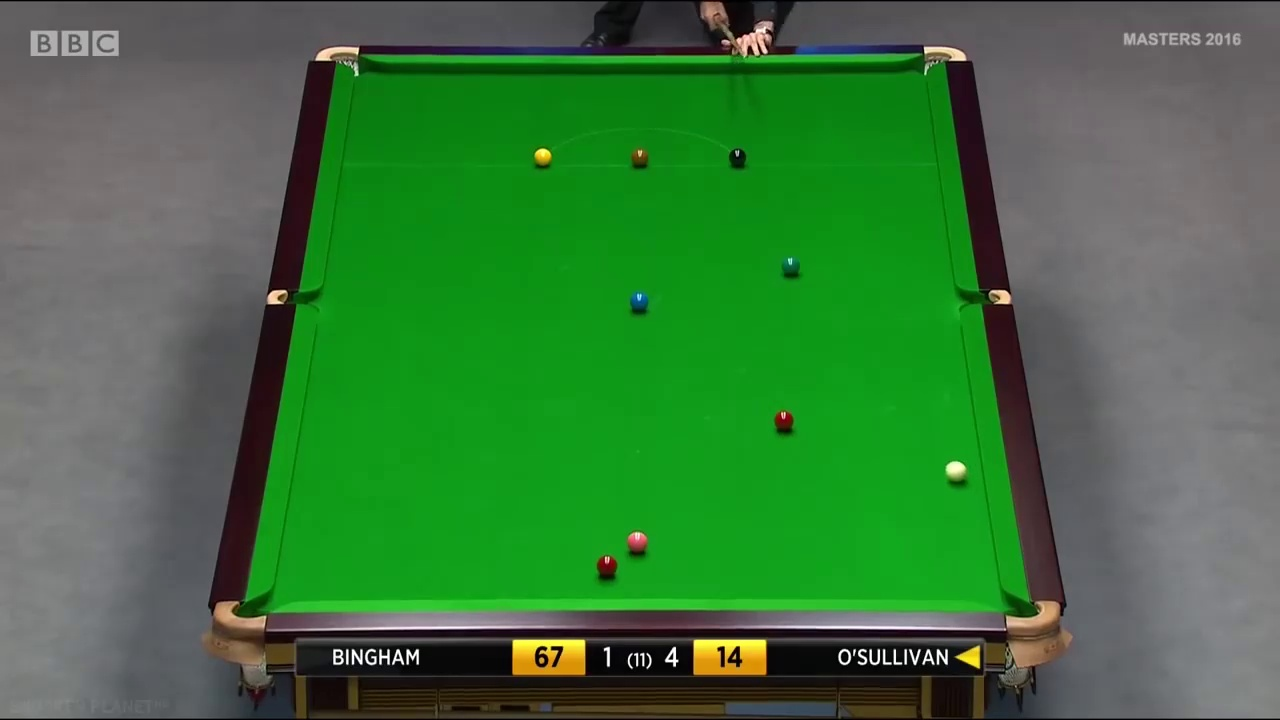ball: (595, 555, 622, 580), (946, 460, 970, 486), (773, 409, 795, 433), (625, 529, 650, 549), (727, 147, 749, 168), (780, 254, 800, 276), (529, 149, 553, 167), (628, 148, 650, 167), (629, 290, 646, 308)
